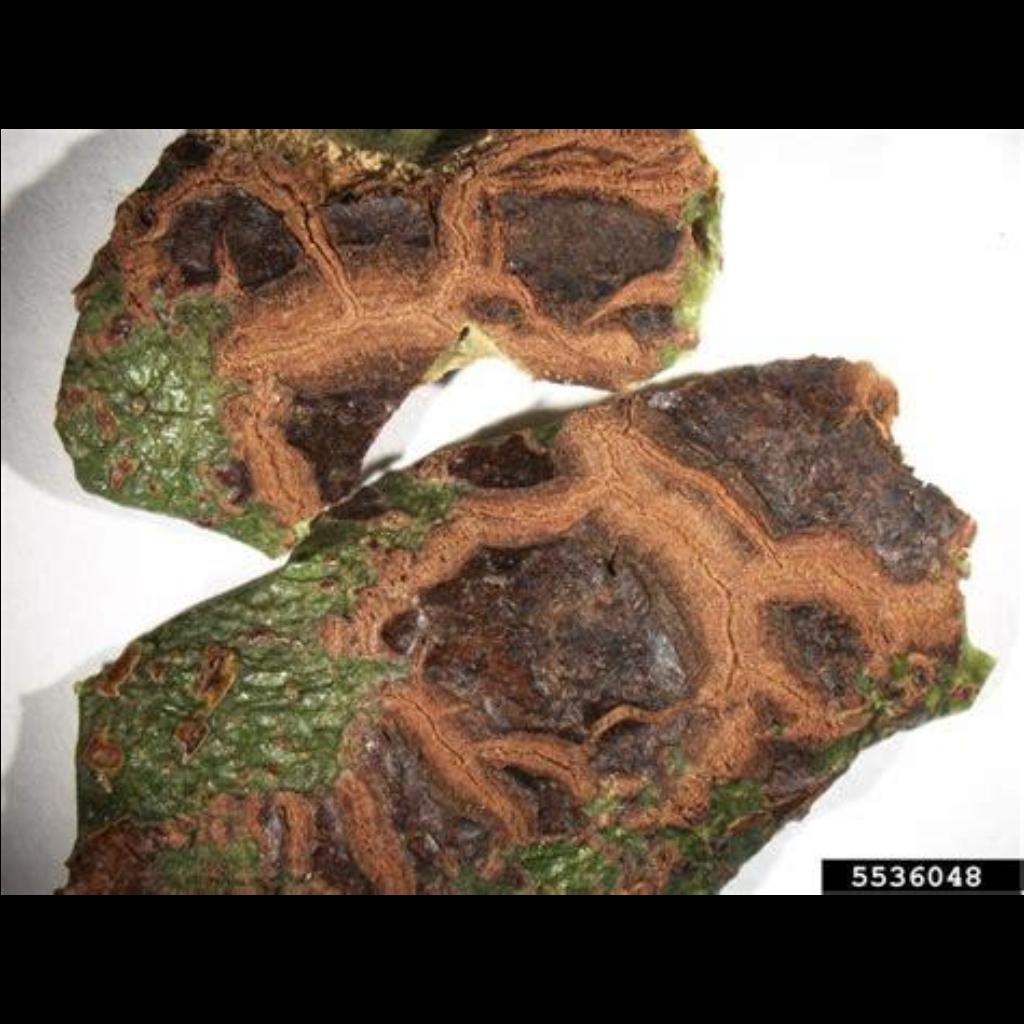cercospora_spot: (98, 186, 800, 828)
